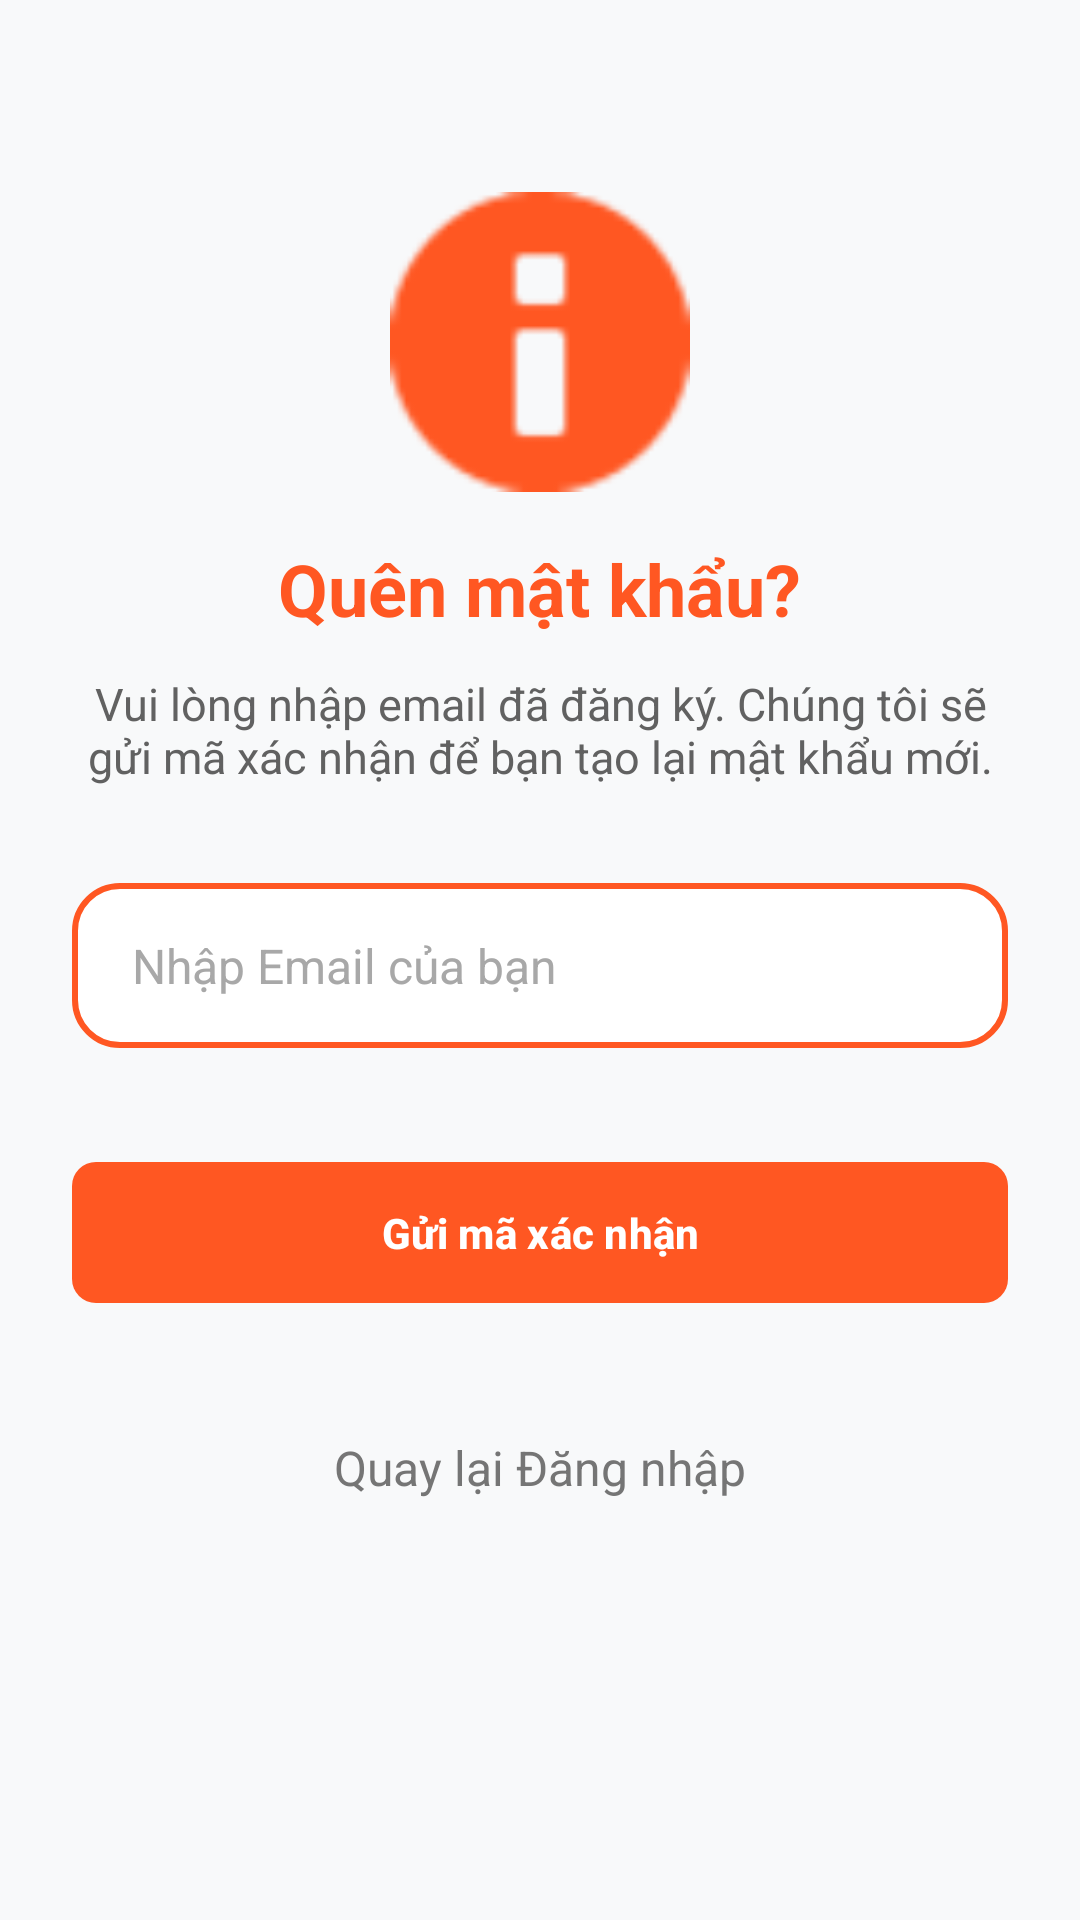

Screen size 1080x1920. Icon name, then its center in pixels as (x=x, y=y):
info: (x=540, y=342)
